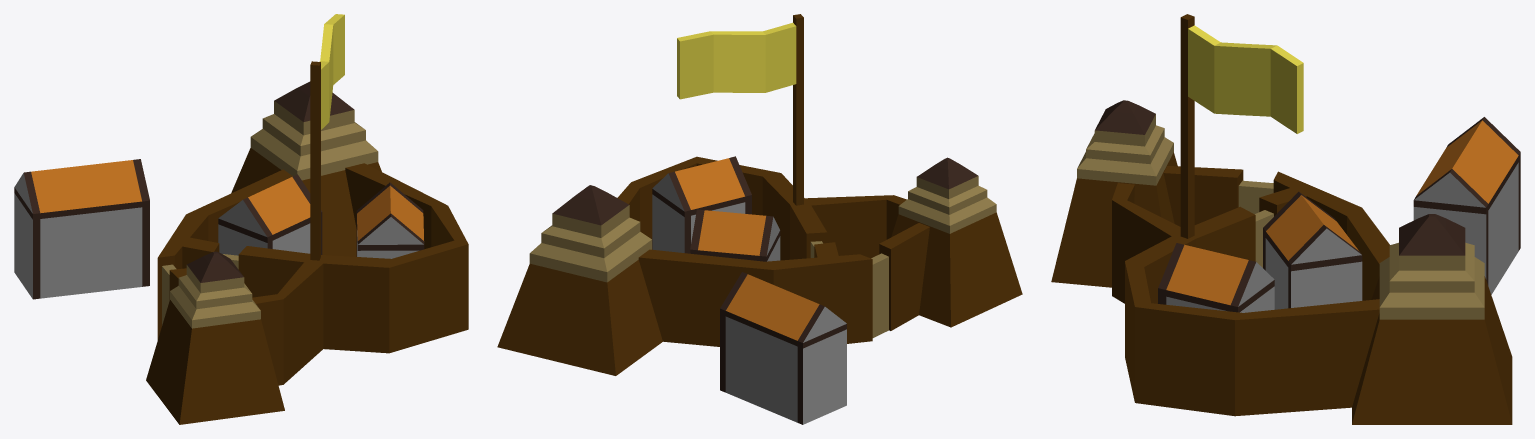
The model's file is SM_TileP3Outpost.fbx.
3 views of the same model, side by side, from view 1: azimuth 30°, elevation 25°; view 2: azimuth 150°, elevation 25°; view 3: azimuth 270°, elevation 25° (orthographic). The views are drawn at different scales.
Parts seen in each view (by area): view 1: TileP3Outpost, TileP3OutpostFlag; view 2: TileP3Outpost, TileP3OutpostFlag; view 3: TileP3Outpost, TileP3OutpostFlag.
Part boxes in pixels (bbox=[...]): TileP3Outpost: bbox=[14, 81, 468, 424]; TileP3OutpostFlag: bbox=[310, 14, 344, 260]; TileP3Outpost: bbox=[497, 156, 1022, 424]; TileP3OutpostFlag: bbox=[677, 14, 803, 205]; TileP3Outpost: bbox=[1051, 100, 1520, 424]; TileP3OutpostFlag: bbox=[1180, 14, 1303, 238].
Size of the model in its own units: 383 by 289 by 391.
